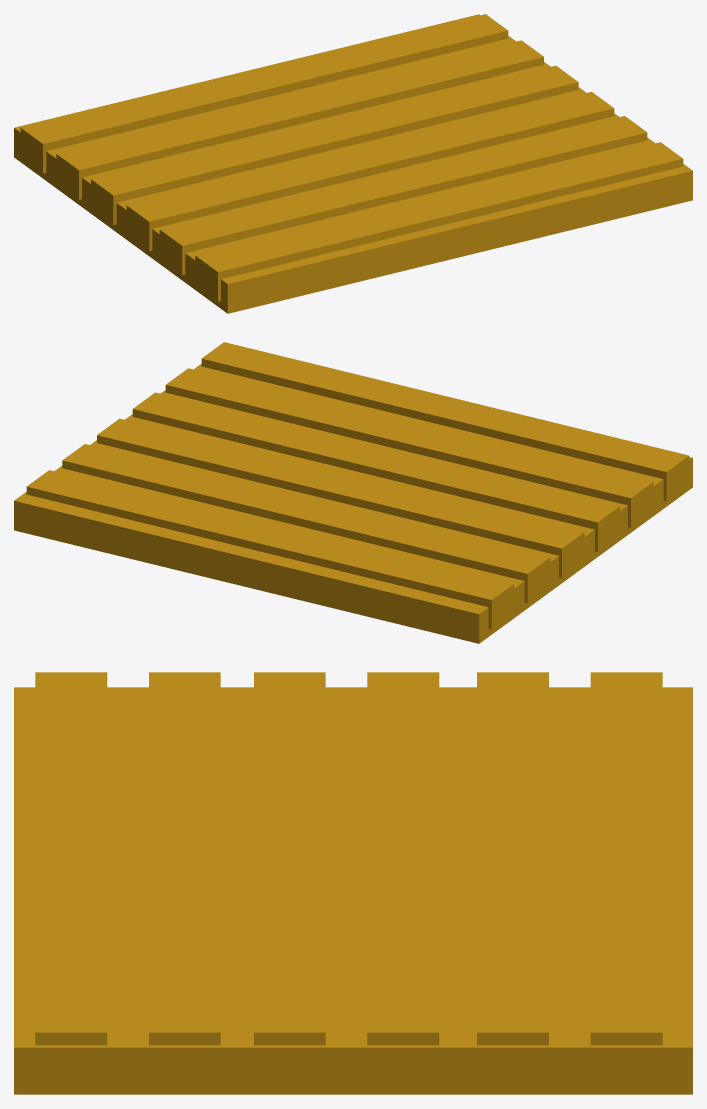
File: yellow_garden.FBX
3 renders of one model, top to bottom at view 1: azimuth 30°, elevation 25°; view 2: azimuth 150°, elevation 25°; view 3: azimuth 270°, elevation 25°, orthographic. The views are drawn at different scales.
Parts seen in each view (by area): view 1: Box1497, Box1498; view 2: Box1497, Box1498; view 3: Box1497, Box1498.
Part boxes in pixels (x1,y1,x2,y2): Box1497: (20, 14, 683, 301); Box1498: (14, 14, 692, 313); Box1497: (26, 342, 689, 629); Box1498: (14, 363, 692, 643); Box1497: (35, 672, 662, 1045); Box1498: (14, 687, 692, 1094).
Size of the model in its own units: 20.66 by 1.58 by 16.34.
